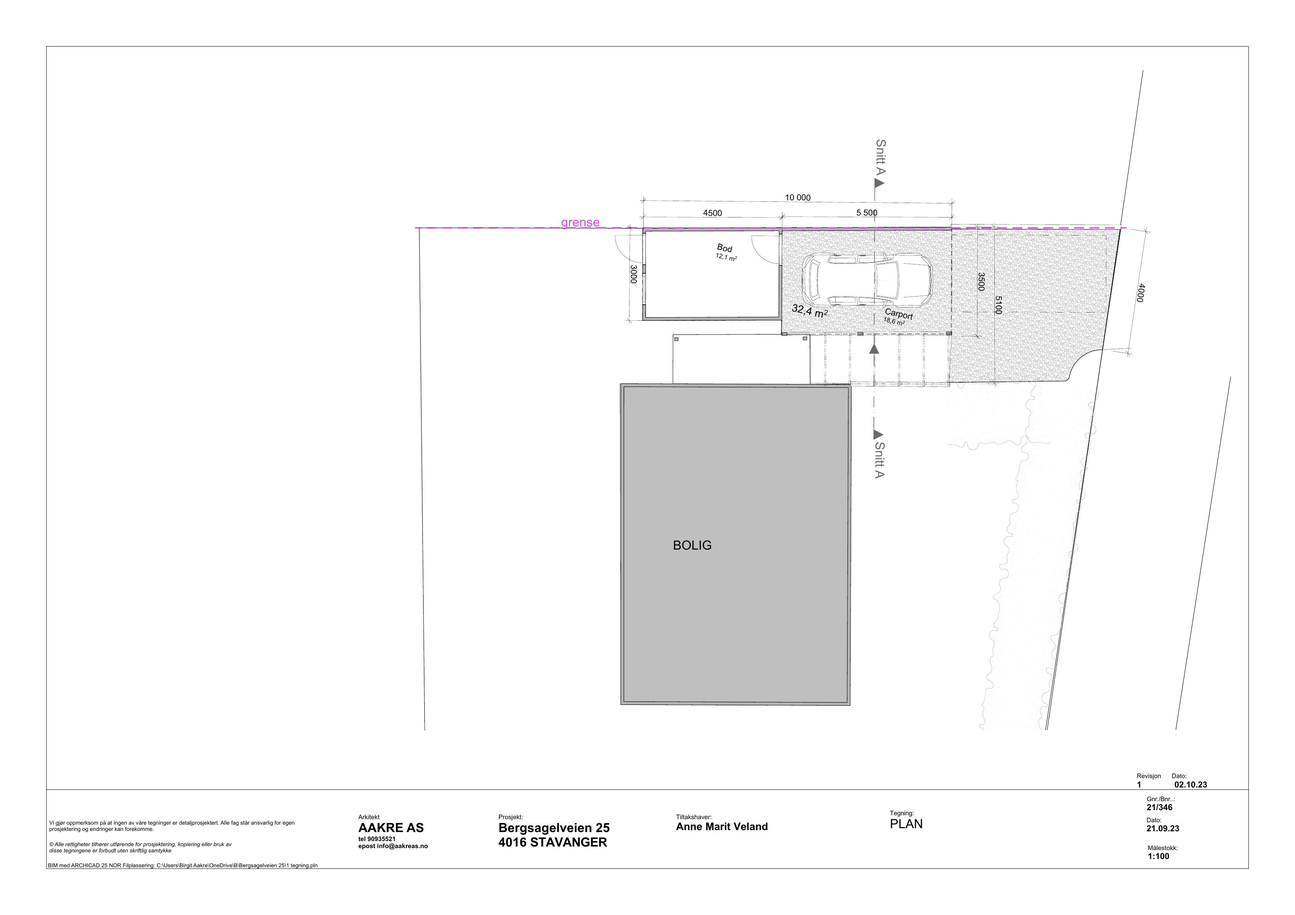plantegning: (615, 229, 951, 383)
